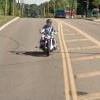Motorcycle: (34, 14, 59, 54)
